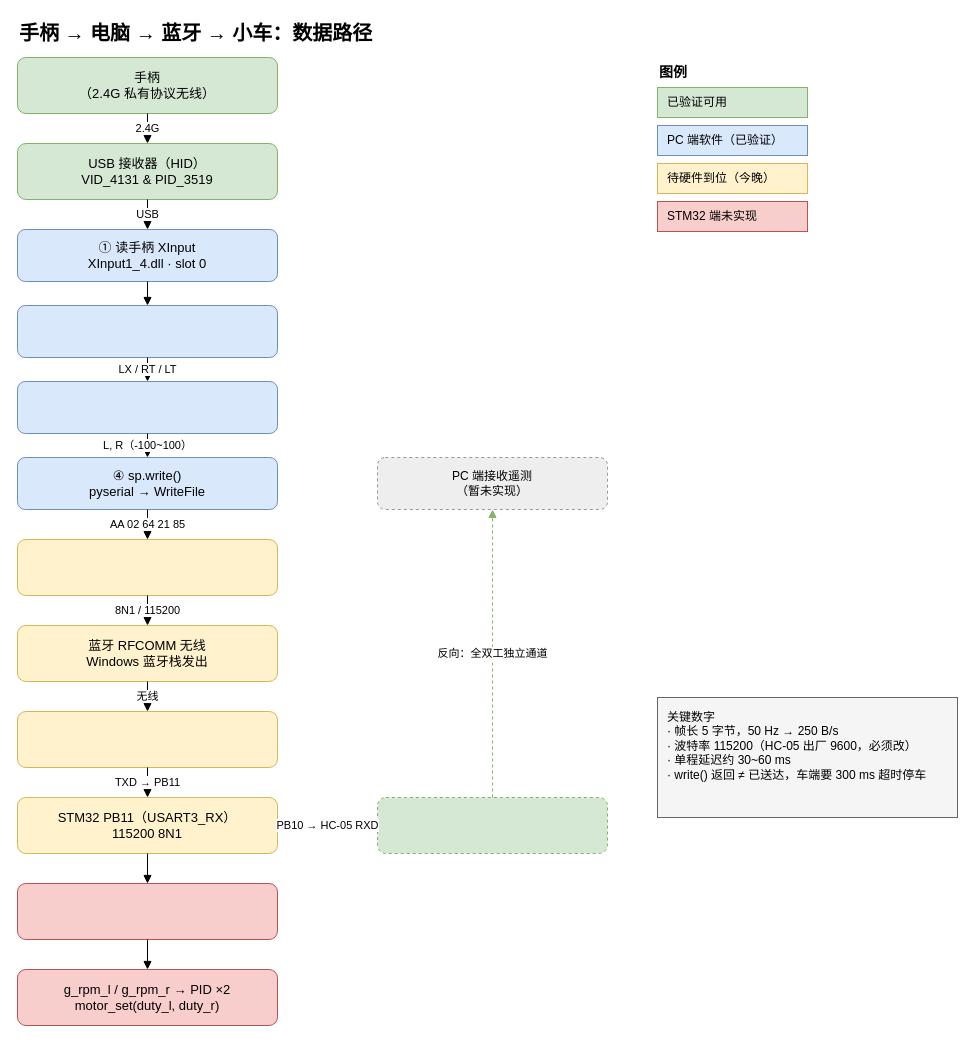
The diagram is 975 pixels wide and 1043 high, and some of its shapes have lost their labels. Here are the shapes that lost their labels. From the top down, the centre of each, then its label:
(147,331): ② 死区 + 差速混控 左摇杆=转向 / RT·LT=油门
(147,407): ③ 组帧（5 字节） 0xAA 02 L R SUM
(147,567): COM5 虚拟串口 CreateFile("\\.\COM5") → 驱动 TX 缓冲
(147,739): HC-05 模块 TXD 按 115200 逐位吐出
(492,825): STM32 PB10（USART3_TX） 每 20ms 发遥测文本
(147,911): 中断收字节 → 环形缓冲 找帧头 / 验校验和
